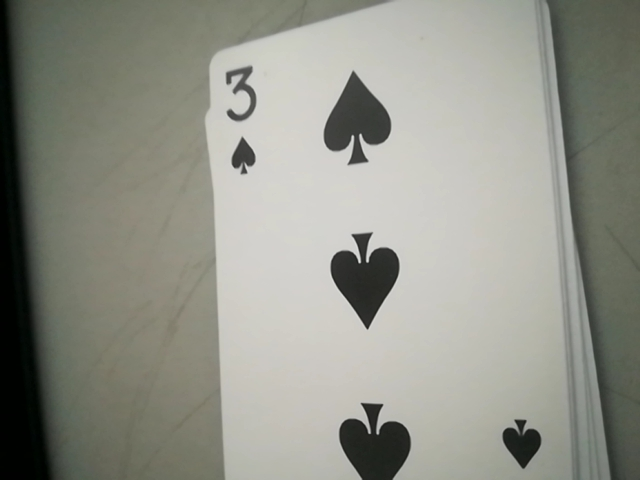ht 3: (207, 59, 291, 188)
